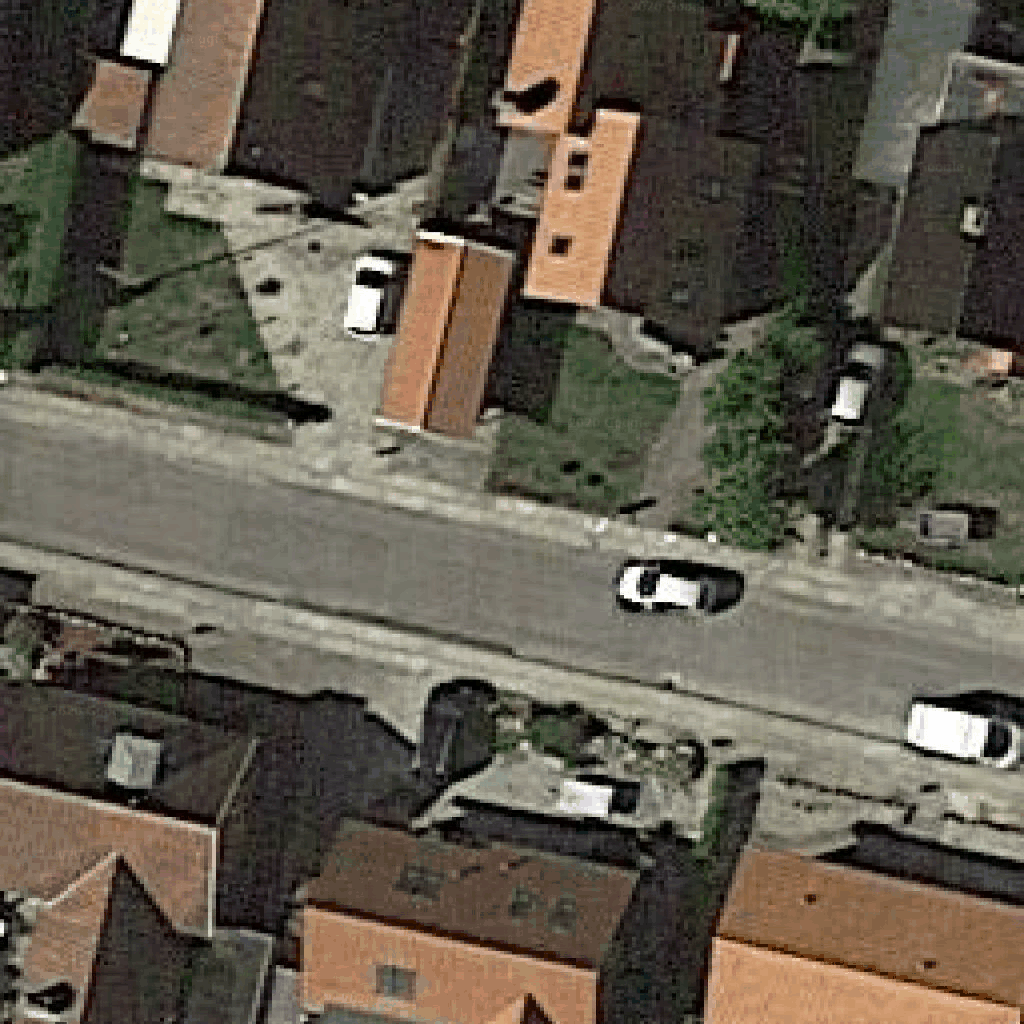car: (904, 694, 1024, 775), (828, 335, 887, 427), (616, 563, 722, 613), (343, 254, 402, 341)
